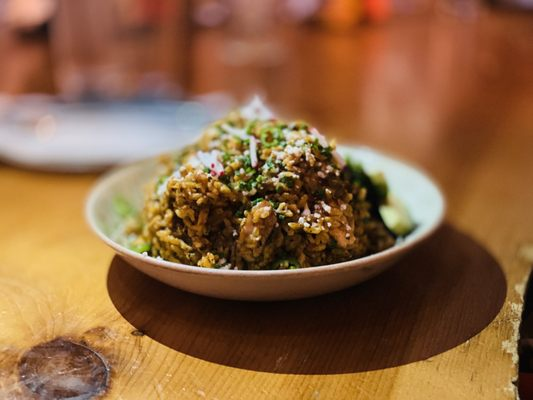sushi: (84, 116, 447, 303)
